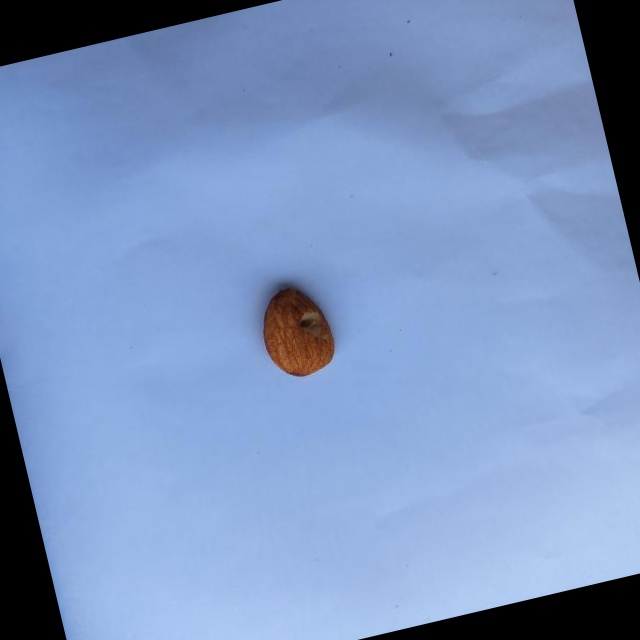grade3: (251, 275, 346, 388)
